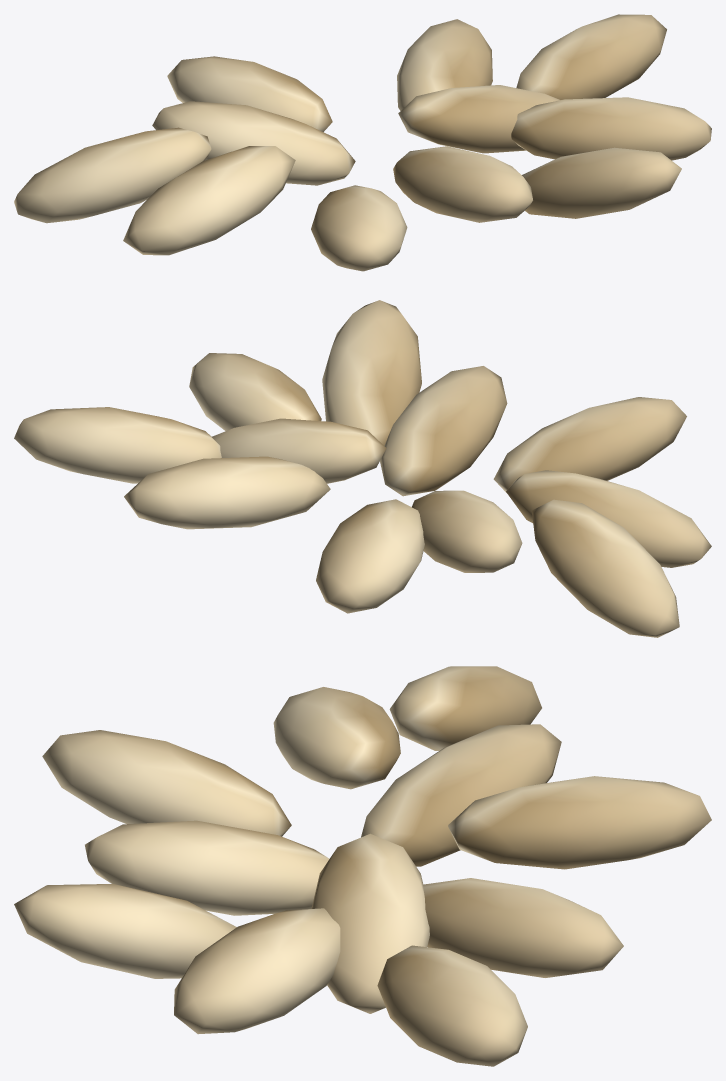
File: NP_Orchid_Seed.fbx
3 views of the same model, one above another, from view 1: azimuth 30°, elevation 25°; view 2: azimuth 150°, elevation 25°; view 3: azimuth 270°, elevation 25° (orthographic). The views are drawn at different scales.
Visible parts, largest first — view 1: NP_Orchid_Seed; view 2: NP_Orchid_Seed; view 3: NP_Orchid_Seed.
Part boxes in pixels (x1,y1,x2,y2): NP_Orchid_Seed: (14,14,711,271); NP_Orchid_Seed: (14,300,711,637); NP_Orchid_Seed: (14,666,711,1066).
Size of the model in its own units: 13.82 by 1.76 by 10.07.
Materials: 1 (1 with a texture image).
